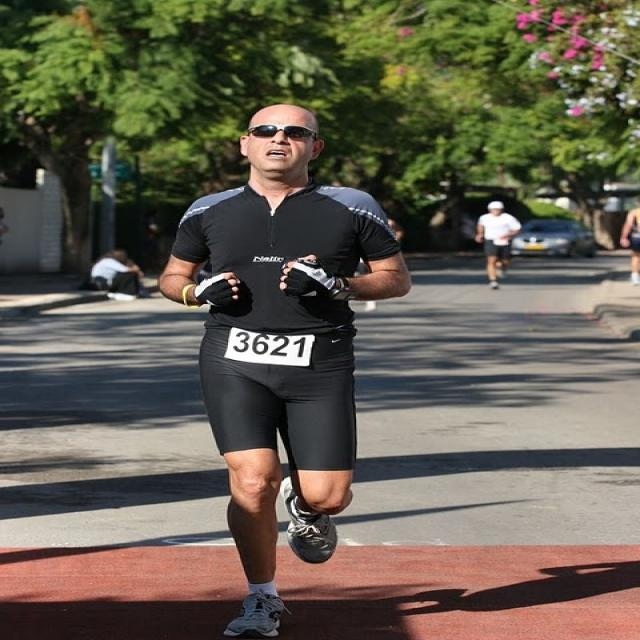Bib: (229, 334, 308, 365)
